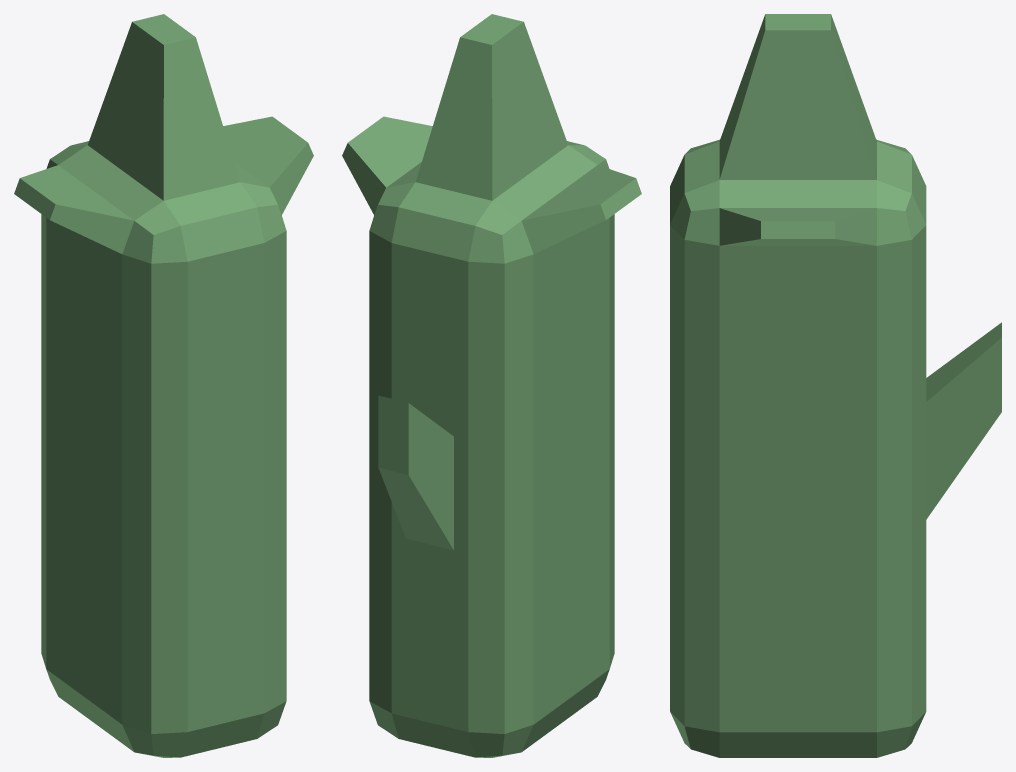
Rendered from Figure_2.fbx.
3 views of the same model, side by side, from view 1: azimuth 30°, elevation 25°; view 2: azimuth 150°, elevation 25°; view 3: azimuth 270°, elevation 25° (orthographic). The views are drawn at different scales.
Parts seen in each view (by area): view 1: Figure_2; view 2: Figure_2; view 3: Figure_2.
Part boxes in pixels (x1,y1,x2,y2): Figure_2: [14, 14, 313, 757]; Figure_2: [342, 14, 641, 757]; Figure_2: [670, 14, 1001, 757].
Bounding box in the file's own units: 0.9921 × 2.48 × 1.04.
